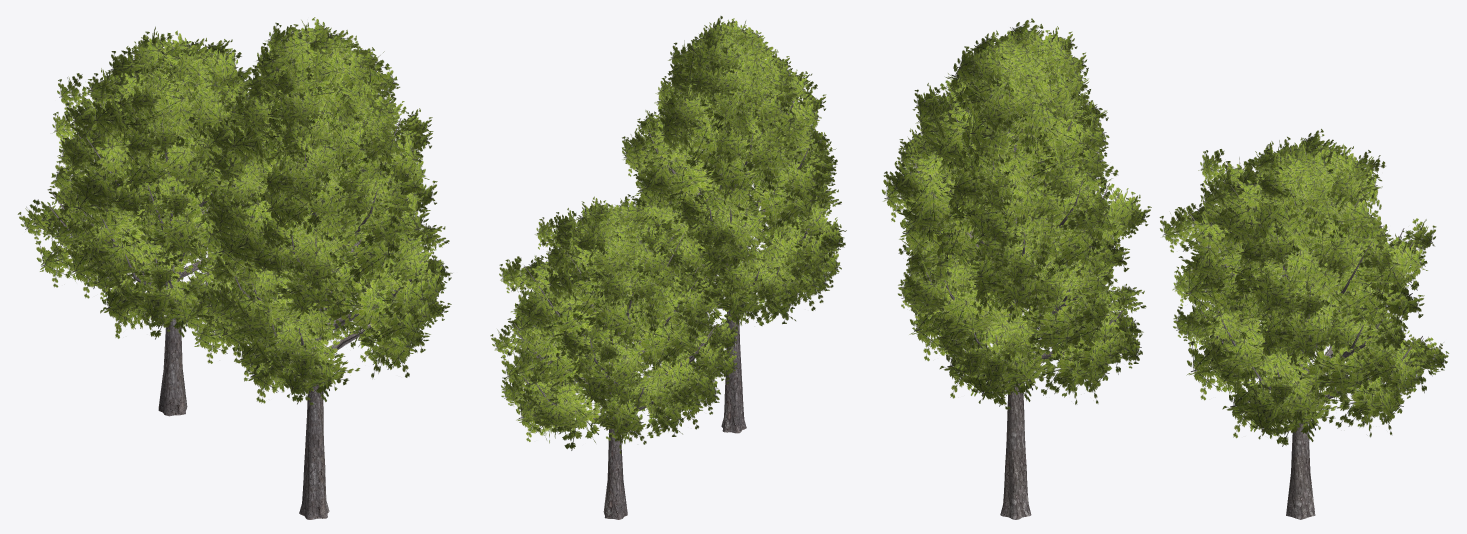
File: poly-trees.glb
3 renders of one model, left to right at view 1: azimuth 30°, elevation 25°; view 2: azimuth 150°, elevation 25°; view 3: azimuth 270°, elevation 25°, orthographic. The views are drawn at different scales.
Visible parts, largest first — view 1: tree4, tree6; view 2: tree6, tree4; view 3: tree4, tree6.
Boxes of the visible parts, x1,y1,x2,y2 form: tree4: [177, 17, 452, 519]; tree6: [17, 26, 311, 416]; tree6: [490, 194, 737, 519]; tree4: [622, 16, 846, 433]; tree4: [882, 18, 1151, 519]; tree6: [1159, 129, 1449, 519].
Bounding box in the file's own units: 580 × 1036 × 1100.
2 materials, 2 textured.
